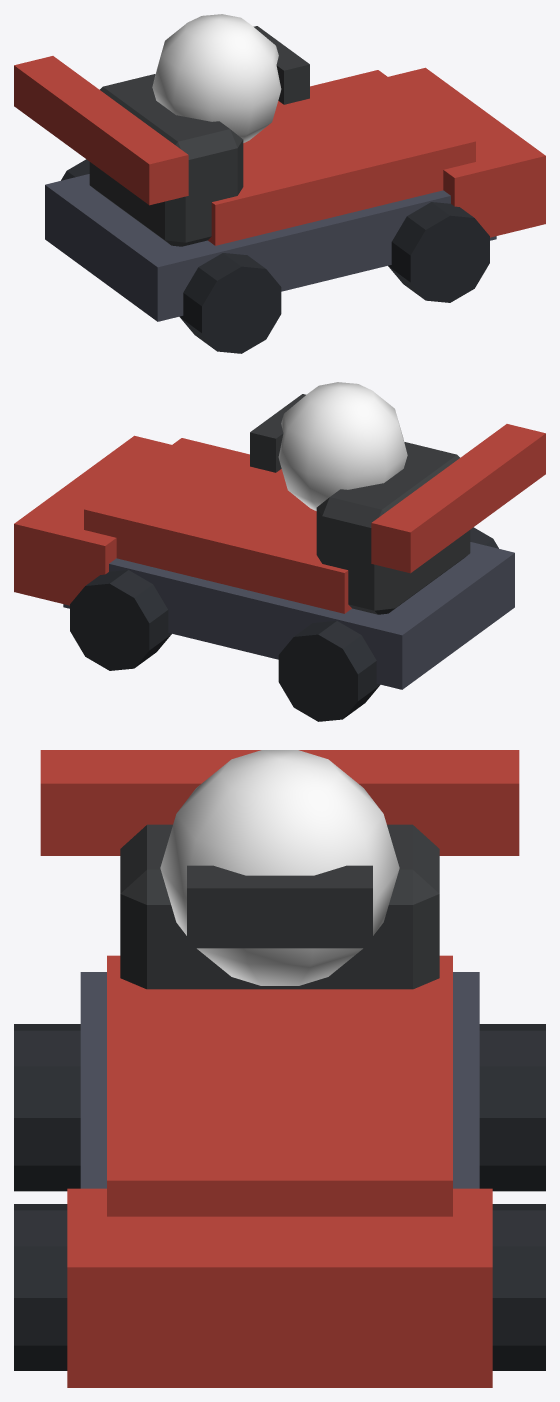
The model's file is go-karts.kart-0.glb.
3 views of the same model, one above another, from view 1: azimuth 30°, elevation 25°; view 2: azimuth 150°, elevation 25°; view 3: azimuth 270°, elevation 25° (orthographic). The views are drawn at different scales.
Visible parts, largest first — view 1: model; view 2: model; view 3: model.
Part boxes in pixels (box(x1,y1,x2,y2)): model: box(14, 14, 545, 353); model: box(14, 382, 545, 721); model: box(14, 750, 545, 1387).
Bounding box in the file's own units: 0.31 × 0.195 × 0.2.
1 material, 1 textured.
